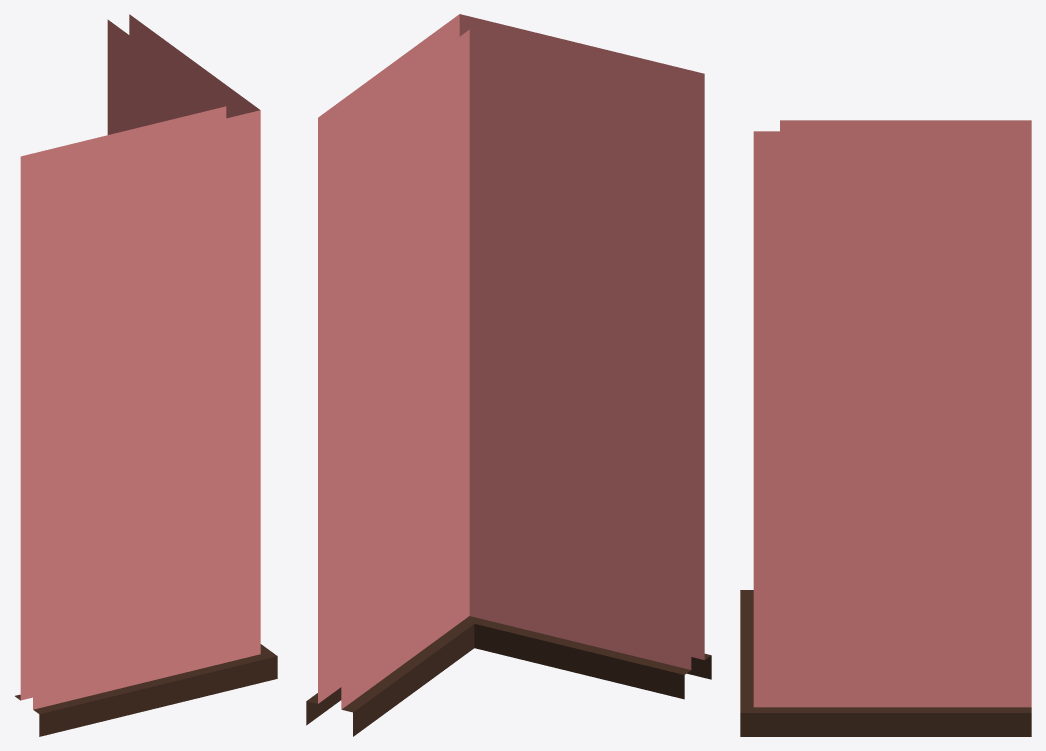
The model's file is SM_Coin_Ext_Double_4x4.fbx.
The picture shows the model from 3 angles, left to right: view 1: azimuth 30°, elevation 25°; view 2: azimuth 150°, elevation 25°; view 3: azimuth 270°, elevation 25°; orthographic projection. The views are drawn at different scales.
Parts seen in each view (by area): view 1: SM_Coin_Ext_Double_4x4; view 2: SM_Coin_Ext_Double_4x4; view 3: SM_Coin_Ext_Double_4x4.
Part boxes in pixels (x1=…): SM_Coin_Ext_Double_4x4: x1=15, y1=14, x2=277, y2=736; SM_Coin_Ext_Double_4x4: x1=306, y1=14, x2=711, y2=736; SM_Coin_Ext_Double_4x4: x1=740, y1=120, x2=1031, y2=736.
Size of the model in its own units: 1.1 by 2.5 by 1.1.
